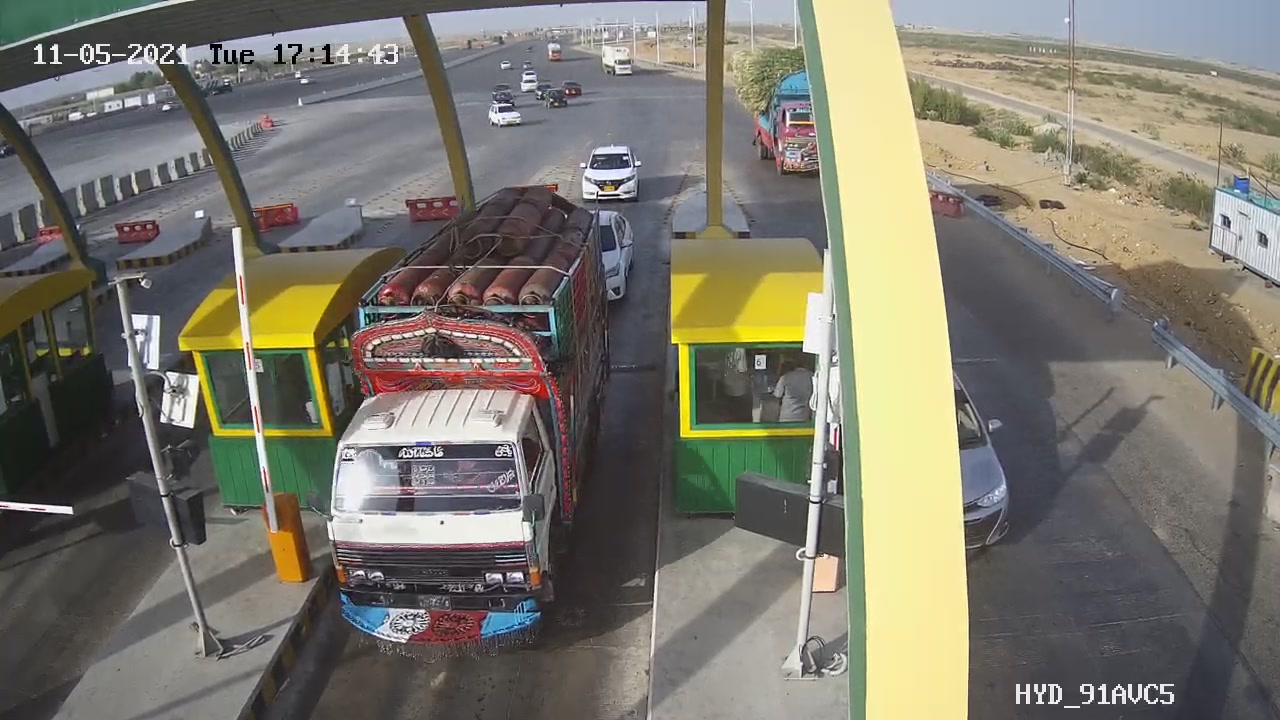F5: (300, 177, 648, 674)
